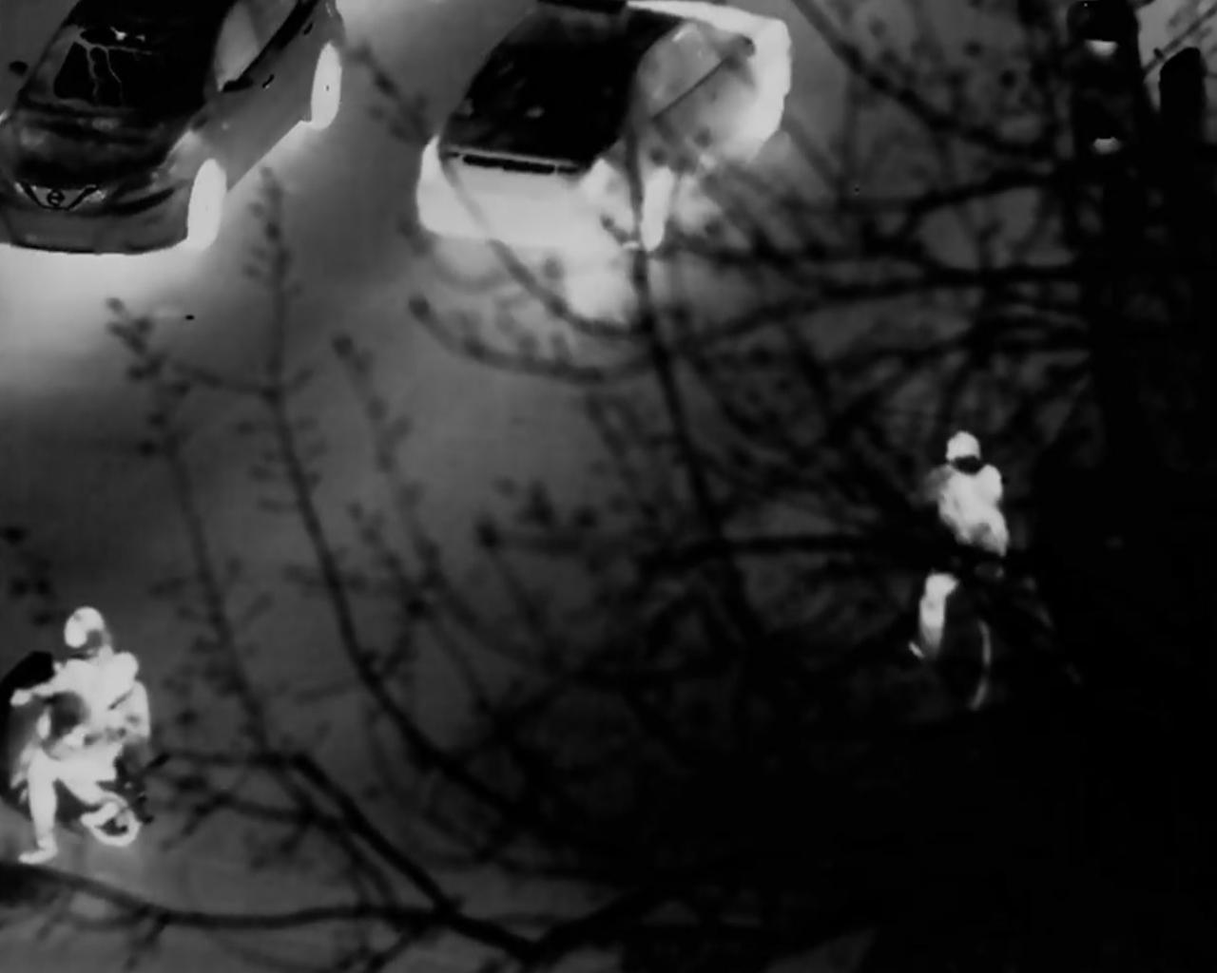person: (914, 432, 1008, 670), (56, 649, 153, 825)
